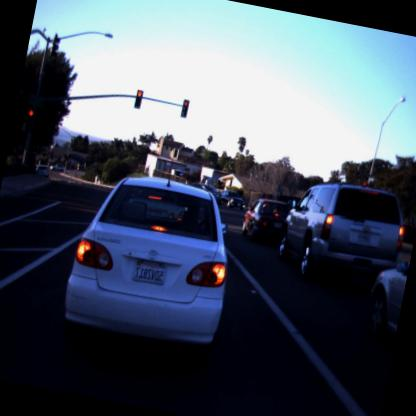trafficlight: (22, 105, 36, 132), (178, 99, 190, 119), (133, 88, 143, 107)
